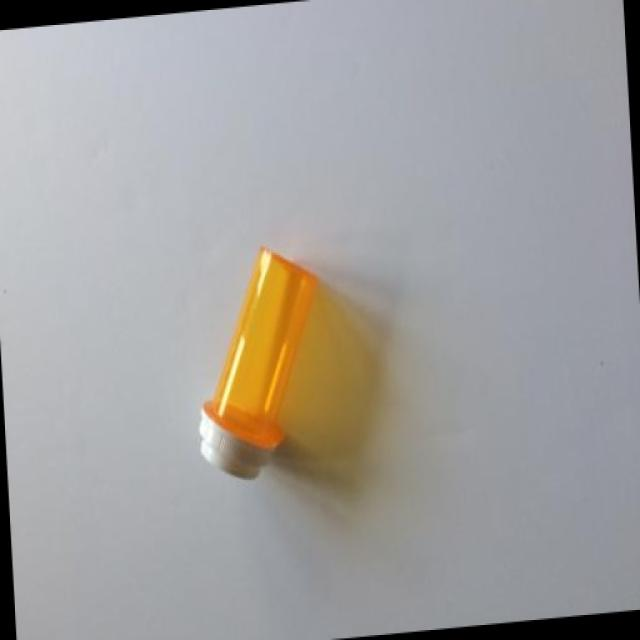plastico: (166, 219, 349, 549)
